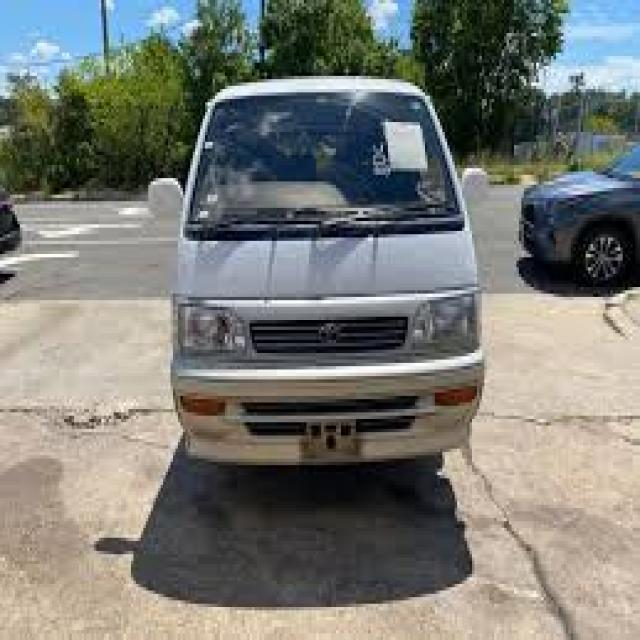car: (521, 145, 638, 284)
van: (171, 76, 482, 465)
